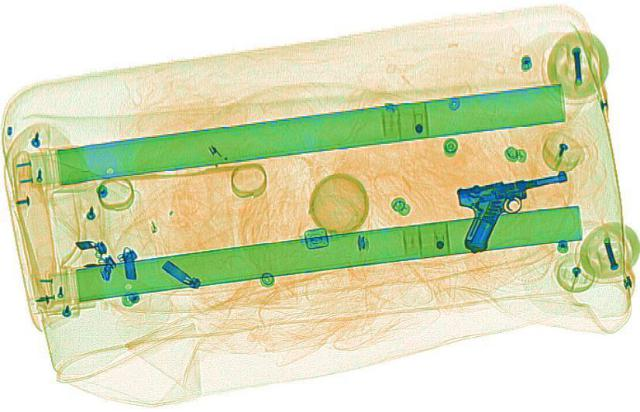Gun: (444, 172, 590, 252)
